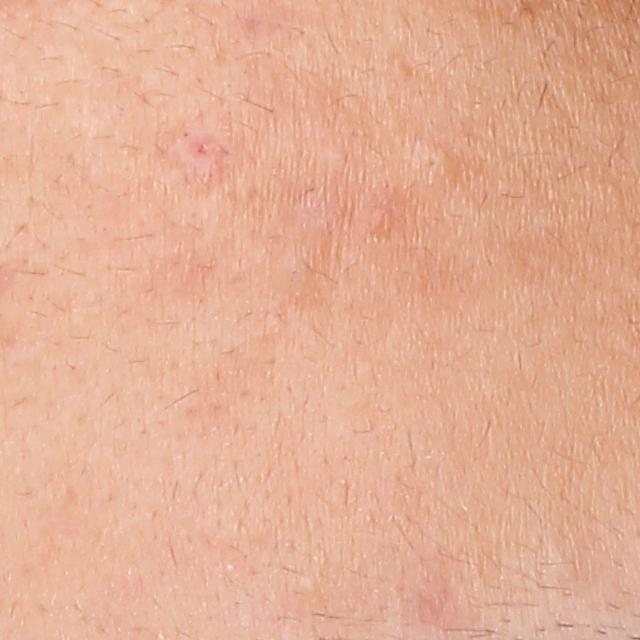comedo: (413, 139, 452, 191), (295, 570, 324, 596)
